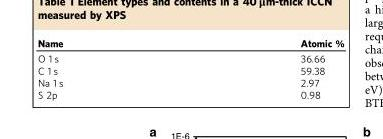table: (36, 37, 343, 99)
table column: (181, 37, 343, 99), (36, 37, 181, 99)
table column header: (36, 37, 343, 50)
table row: (36, 50, 343, 64), (36, 37, 343, 50), (36, 64, 343, 76), (36, 76, 343, 88), (36, 88, 343, 99)
